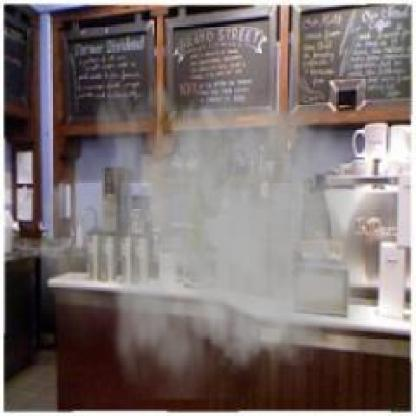Smoke: (41, 40, 382, 400)
